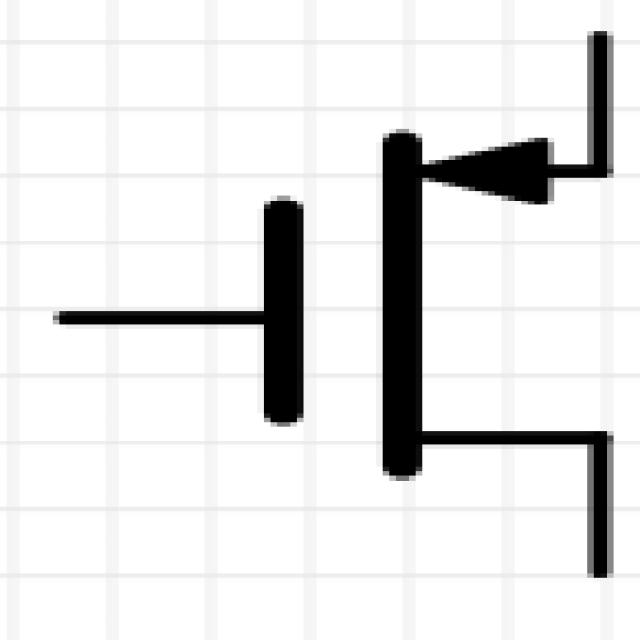pmos: (61, 26, 640, 582)
